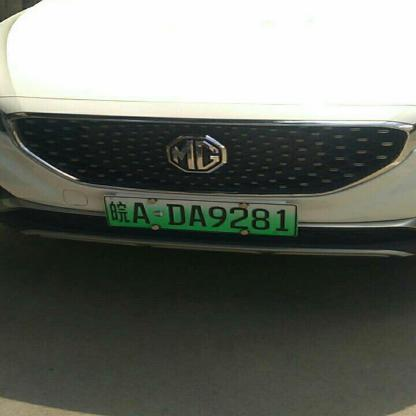lp: (105, 195, 297, 234)
